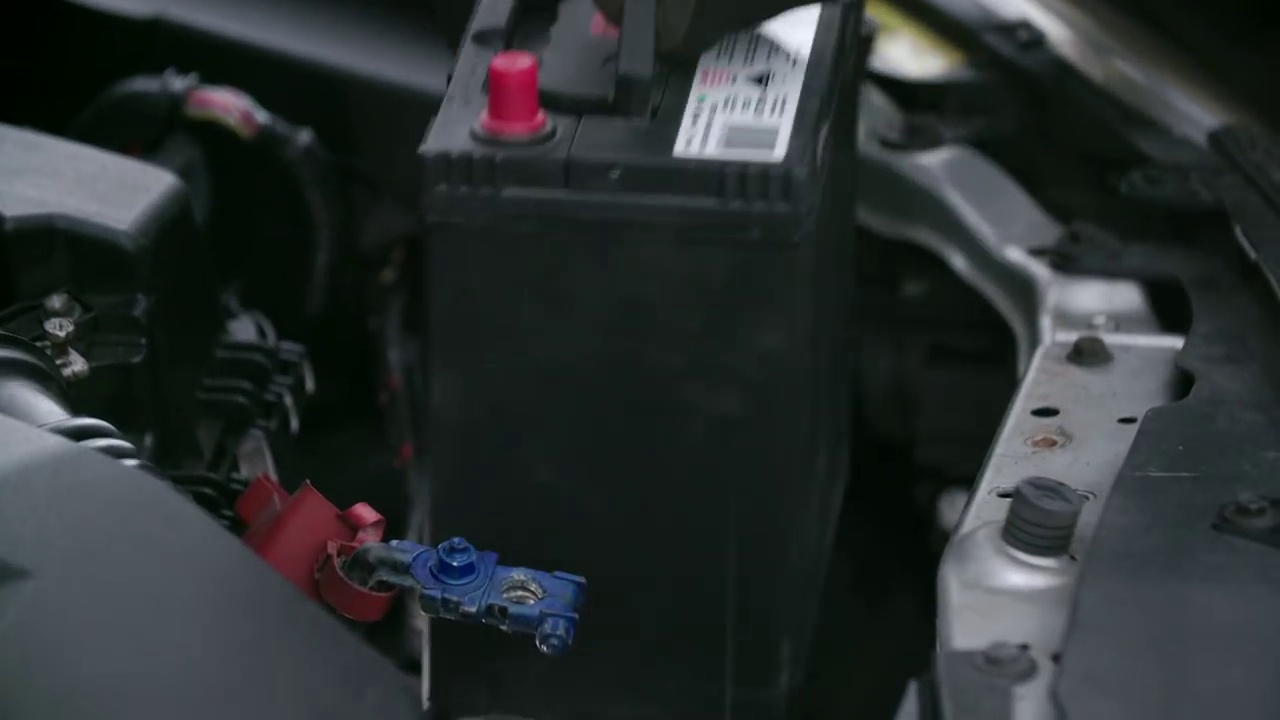battery: (423, 6, 851, 187)
